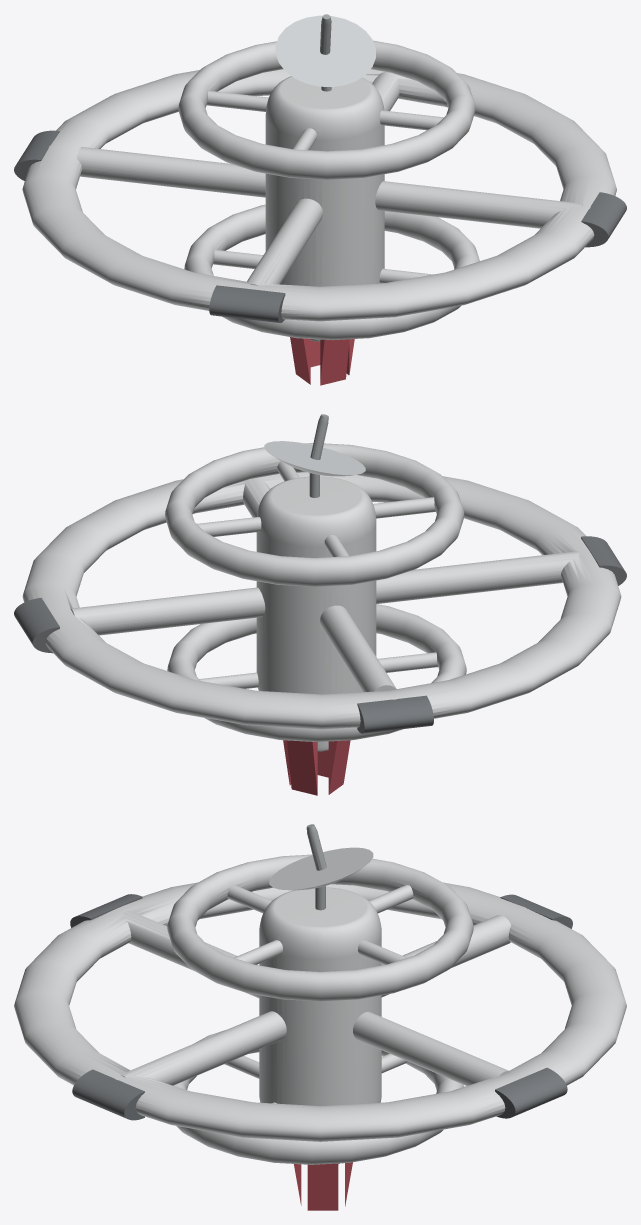
The model's file is iss.glb.
3 views of the same model, one above another, from view 1: azimuth 30°, elevation 25°; view 2: azimuth 150°, elevation 25°; view 3: azimuth 270°, elevation 25° (orthographic). The views are drawn at different scales.
Visible parts, largest first — view 1: Object_3, Object_2, Object_5, Object_7; view 2: Object_3, Object_5, Object_7, Object_2, Object_6; view 3: Object_3, Object_5, Object_2, Object_7, Object_6.
Part boxes in pixels (x1,y1,x2,y2): Object_3: (22,40,616,340); Object_2: (275,15,375,341); Object_5: (14,130,626,322); Object_7: (290,337,354,385); Object_3: (22,443,621,741); Object_5: (14,536,626,733); Object_7: (283,740,350,795); Object_2: (264,441,365,751); Object_6: (309,414,328,497); Object_3: (14,854,626,1164); Object_5: (70,894,572,1120); Object_2: (269,847,373,1163); Object_7: (294,1162,352,1210); Object_6: (306,824,326,910).
Bounding box in the file's own units: 400 × 270 × 400.
